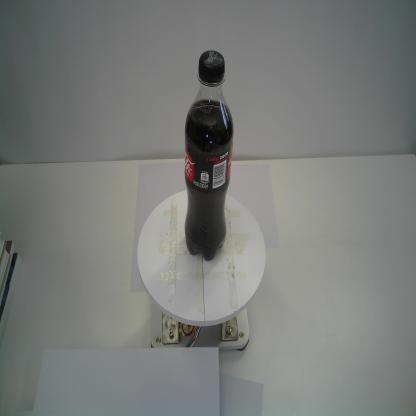Drink: (181, 50, 234, 263)
